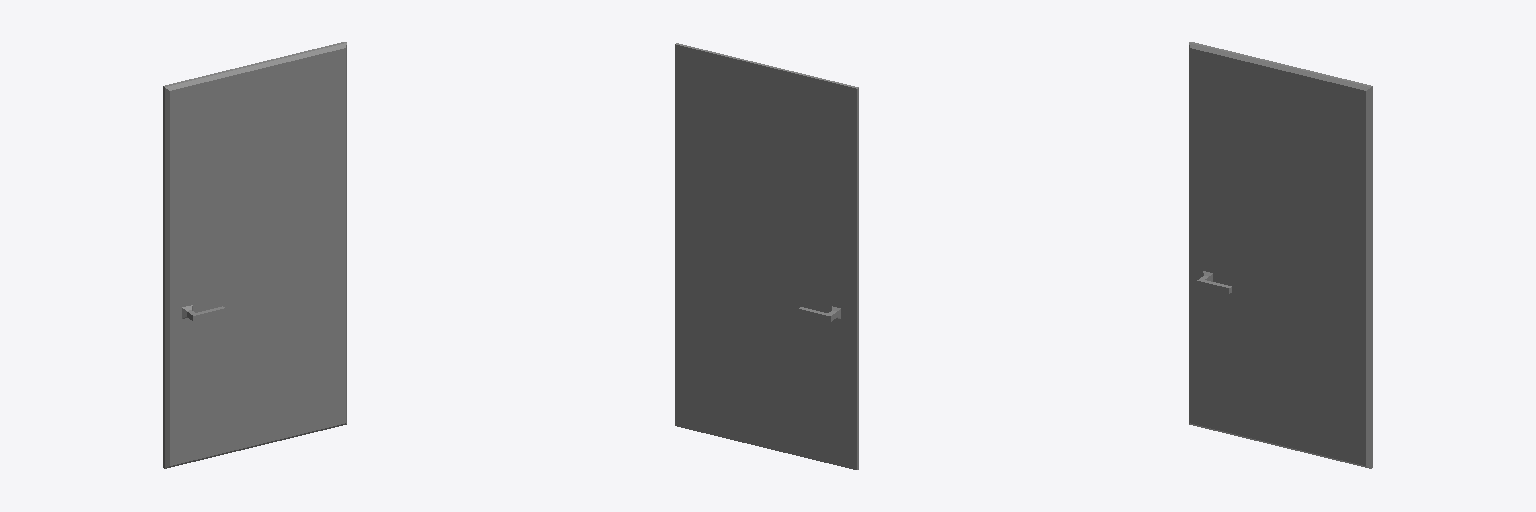
Rendered from BathroomDoor.obj.
3 renders of one model, left to right at view 1: azimuth 30°, elevation 25°; view 2: azimuth 150°, elevation 25°; view 3: azimuth 330°, elevation 25°, orthographic.
Parts seen in each view (by area): view 1: Box358; view 2: Box358; view 3: Box358.
Boxes of the visible parts, box(x1,y1,x2,y2) form: Box358: box(163, 42, 346, 468); Box358: box(675, 43, 858, 469); Box358: box(1189, 42, 1372, 468).
Bounding box in the file's own units: 59.06 × 118 × 11.32.